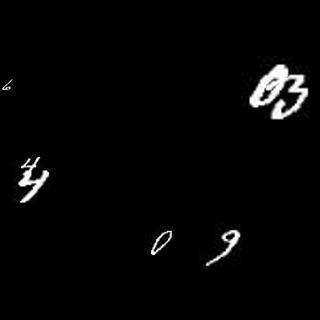four: (18, 170, 52, 205), (20, 154, 44, 173)
nine: (204, 223, 245, 267)
six: (1, 74, 17, 96)
three: (275, 73, 309, 120)
zero: (247, 61, 286, 107), (143, 226, 175, 257)
